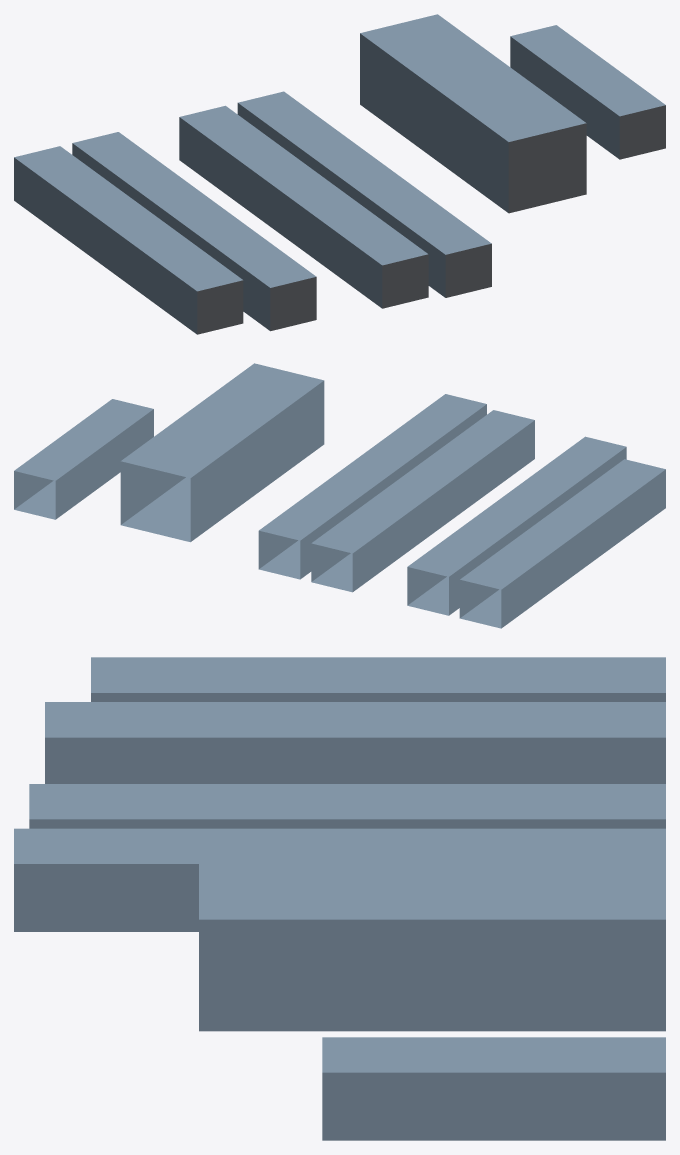
File: island_bldg_13_10.obj
3 views of the same model, one above another, from view 1: azimuth 30°, elevation 25°; view 2: azimuth 150°, elevation 25°; view 3: azimuth 270°, elevation 25° (orthographic). The views are drawn at different scales.
Visible parts, largest first — view 1: island_bldg_13_10; view 2: island_bldg_13_10; view 3: island_bldg_13_10.
Part boxes in pixels (left/top/right/bottom): island_bldg_13_10: left=14, top=14, right=665, bottom=334; island_bldg_13_10: left=14, top=363, right=665, bottom=628; island_bldg_13_10: left=14, top=657, right=665, bottom=1140.
Bounding box in the file's own units: 223 × 32.6 × 148.
